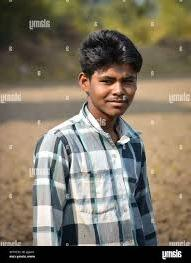Human: (36, 29, 160, 256)
